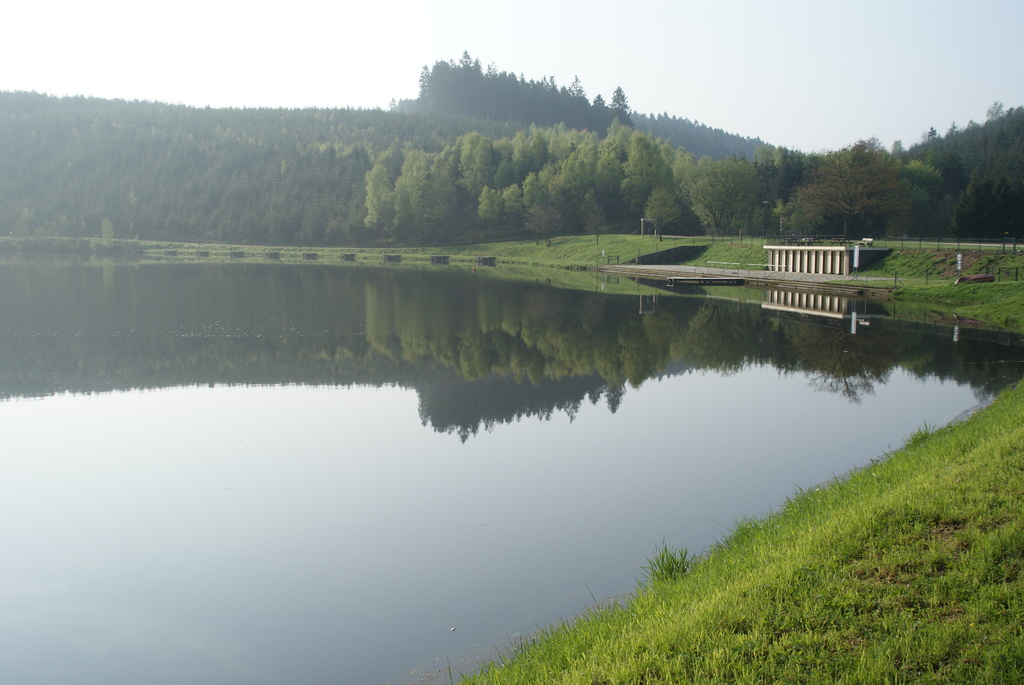Tree: (0, 48, 1023, 247)
